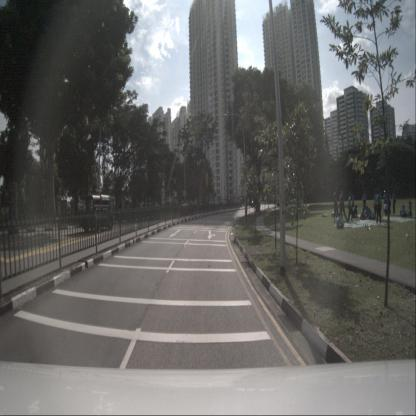human-pedestrian-adult: (340, 191, 348, 222), (333, 187, 339, 223), (376, 191, 382, 226), (373, 190, 378, 221), (348, 192, 353, 223), (336, 212, 345, 228), (383, 190, 388, 212), (362, 191, 367, 212), (392, 189, 396, 215), (367, 208, 375, 220), (407, 201, 413, 217), (352, 205, 358, 219), (351, 192, 355, 213), (388, 190, 391, 216), (360, 208, 366, 221), (401, 205, 407, 217), (383, 203, 388, 217), (365, 206, 369, 219)
vehicle-truck: (78, 195, 115, 233)
